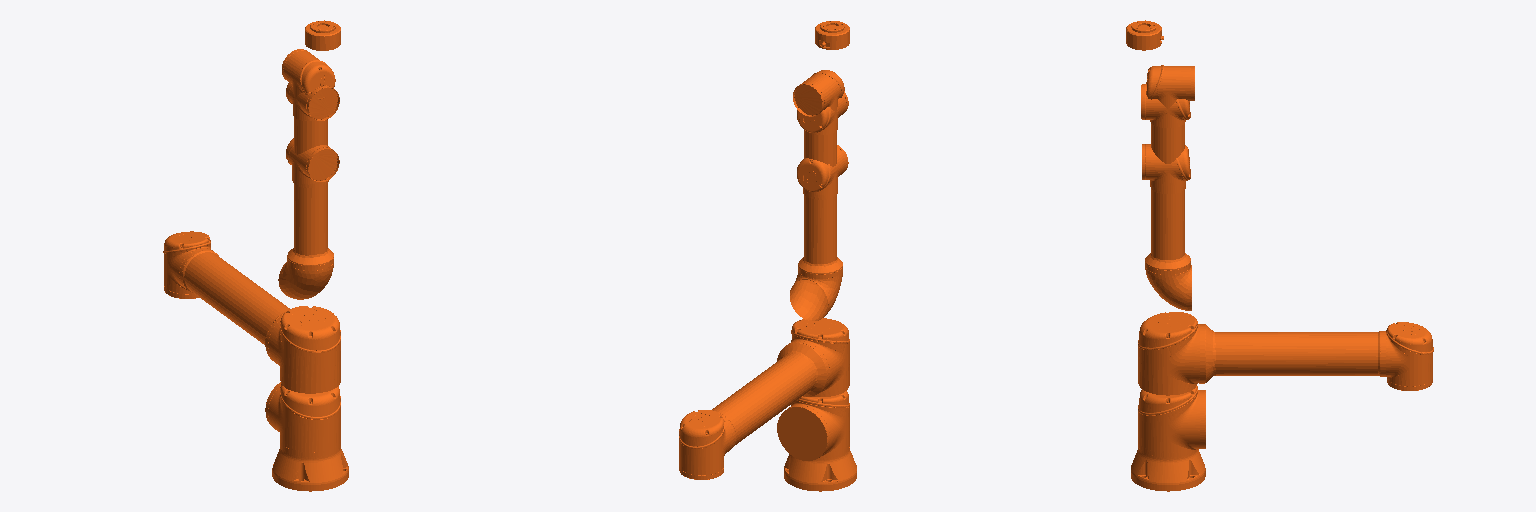
robot.urdf — iiwa7:
<?xml version="1.0" ?>
<!-- =================================================================================== -->
<!-- |    This document was autogenerated by xacro from iiwa7.urdf.xacro               | -->
<!-- |    EDITING THIS FILE BY HAND IS NOT RECOMMENDED                                 | -->
<!-- =================================================================================== -->
<robot name="iiwa7" xmlns:xacro="http://www.ros.org/wiki/xacro">
  <material name="Black">
    <color rgba="0.0 0.0 0.0 1.0"/>
  </material>
  <material name="Blue">
    <color rgba="0.0 0.0 0.8 1.0"/>
  </material>
  <material name="Green">
    <color rgba="0.0 0.8 0.0 1.0"/>
  </material>
  <material name="Grey">
    <color rgba="0.4 0.4 0.4 1.0"/>
  </material>
  <material name="Orange">
    <color rgba="1.0 0.423529411765 0.0392156862745 1.0"/>
  </material>
  <material name="Brown">
    <color rgba="0.870588235294 0.811764705882 0.764705882353 1.0"/>
  </material>
  <material name="Red">
    <color rgba="0.8 0.0 0.0 1.0"/>
  </material>
  <material name="White">
    <color rgba="1.0 1.0 1.0 1.0"/>
  </material>
  <material name="KUKA_orange">
    <color rgba="0.964705882353 0.470588235294 0.156862745098 1.0"/>
  </material>
  <!-- Fix to world just for testing -->
  <link name="world"/>
  <!--iiwa-->
  <!--   <xacro:iiwa7 hardware_interface="$(arg hardware_interface)" robot_name="$(arg robot_name)" parent="world">
    <origin xyz="$(arg origin_xyz)" rpy="$(arg origin_rpy)" />
  </xacro:iiwa7> -->
  <!--joint between {parent} and link_0-->
  <joint name="world_iiwa_joint" type="fixed">
    <origin rpy="0 0 0" xyz="0 0 0"/>
    <parent link="world"/>
    <child link="iiwa_link_0"/>
  </joint>
  <link name="iiwa_link_0">
    <inertial>
      <origin rpy="0 0 0" xyz="-0.1 0 0.07"/>
      <mass value="5"/>
      <inertia ixx="0.05" ixy="0" ixz="0" iyy="0.06" iyz="0" izz="0.03"/>
    </inertial>
    <visual>
      <origin rpy="0 0 0" xyz="0 0 0"/>
      <geometry>
        <mesh filename="package://iiwa_description/meshes/iiwa7/visual/link_0.stl"/>
      </geometry>
      <material name="KUKA_orange"/>
    </visual>
    <collision>
      <origin rpy="0 0 0" xyz="0 0 0"/>
      <geometry>
        <mesh filename="package://iiwa_description/meshes/iiwa7/collision/link_0.stl"/>
      </geometry>
      <material name="KUKA_orange"/>
    </collision>
    <self_collision_checking>
      <origin rpy="0 0 0" xyz="0 0 0"/>
      <geometry>
        <capsule length="0.25" radius="0.15"/>
      </geometry>
    </self_collision_checking>
  </link>
  <!-- joint between link_0 and link_1 -->
  <joint name="iiwa_joint_1" type="revolute">
    <parent link="iiwa_link_0"/>
    <child link="iiwa_link_1"/>
    <origin rpy="0 0 0" xyz="0 0 0.15"/>
    <axis xyz="0 0 1"/>
    <limit effort="300" lower="-2.96705972839" upper="2.96705972839" velocity="10"/>
    <safety_controller k_position="100" k_velocity="2" soft_lower_limit="-2.93215314335" soft_upper_limit="2.93215314335"/>
    <dynamics damping="0.5"/>
  </joint>
  <link name="iiwa_link_1">
    <inertial>
      <origin rpy="0 0 0" xyz="0 -0.03 0.12"/>
      <mass value="3.4525"/>
      <inertia ixx="0.02183" ixy="0" ixz="0" iyy="0.007703" iyz="-0.003887" izz="0.02083"/>
    </inertial>
    <visual>
      <origin rpy="0 0 0" xyz="0 0 0.0075"/>
      <geometry>
        <mesh filename="package://iiwa_description/meshes/iiwa7/visual/link_1.stl"/>
      </geometry>
      <material name="KUKA_orange"/>
    </visual>
    <collision>
      <origin rpy="0 0 0" xyz="0 0 0.0075"/>
      <geometry>
        <mesh filename="package://iiwa_description/meshes/iiwa7/collision/link_1.stl"/>
      </geometry>
      <material name="KUKA_orange"/>
    </collision>
  </link>
  <joint name="iiwa_joint_2" type="revolute">
    <parent link="iiwa_link_1"/>
    <child link="iiwa_link_2"/>
    <origin rpy="1.57079632679   0 3.14159265359" xyz="0 0 0.19"/>
    <axis xyz="0 0 1"/>
    <limit effort="300" lower="-2.09439510239" upper="2.09439510239" velocity="10"/>
    <safety_controller k_position="100" k_velocity="2" soft_lower_limit="-2.05948851735" soft_upper_limit="2.05948851735"/>
    <dynamics damping="0.5"/>
  </joint>
  <link name="iiwa_link_2">
    <inertial>
      <origin rpy="0 0 0" xyz="0.0003 0.059 0.042"/>
      <mass value="3.4821"/>
      <inertia ixx="0.02076" ixy="0" ixz="-0.003626" iyy="0.02179" iyz="0" izz="0.00779"/>
    </inertial>
    <visual>
      <origin rpy="0 0 0" xyz="0 0 0"/>
      <geometry>
        <mesh filename="package://iiwa_description/meshes/iiwa7/visual/link_2.stl"/>
      </geometry>
      <material name="KUKA_orange"/>
    </visual>
    <collision>
      <origin rpy="0 0 0" xyz="0 0 0"/>
      <geometry>
        <mesh filename="package://iiwa_description/meshes/iiwa7/collision/link_2.stl"/>
      </geometry>
      <material name="KUKA_orange"/>
    </collision>
  </link>
  <joint name="iiwa_joint_3" type="revolute">
    <parent link="iiwa_link_2"/>
    <child link="iiwa_link_3"/>
    <origin rpy="1.57079632679 0 3.14159265359" xyz="0 0.21 0"/>
    <axis xyz="0 0 1"/>
    <limit effort="300" lower="-2.96705972839" upper="2.96705972839" velocity="10"/>
    <safety_controller k_position="100" k_velocity="2" soft_lower_limit="-2.93215314335" soft_upper_limit="2.93215314335"/>
    <dynamics damping="0.5"/>
  </joint>
  <link name="iiwa_link_3">
    <inertial>
      <origin rpy="0 0 0" xyz="0 0.03 0.13"/>
      <mass value="4.05623"/>
      <inertia ixx="0.03204" ixy="0" ixz="0" iyy="0.00972" iyz="0.006227" izz="0.03042"/>
    </inertial>
    <visual>
      <origin rpy="0 0 0" xyz="0 0 -0.026"/>
      <geometry>
        <mesh filename="package://iiwa_description/meshes/iiwa7/visual/link_3.stl"/>
      </geometry>
      <material name="KUKA_orange"/>
    </visual>
    <collision>
      <origin rpy="0 0 0" xyz="0 0 -0.026"/>
      <geometry>
        <mesh filename="package://iiwa_description/meshes/iiwa7/collision/link_3.stl"/>
      </geometry>
      <material name="KUKA_orange"/>
    </collision>
  </link>
  <joint name="iiwa_joint_4" type="revolute">
    <parent link="iiwa_link_3"/>
    <child link="iiwa_link_4"/>
    <origin rpy="1.57079632679 0 0" xyz="0 0 0.19"/>
    <axis xyz="0 0 1"/>
    <limit effort="300" lower="-2.09439510239" upper="2.09439510239" velocity="10"/>
    <safety_controller k_position="100" k_velocity="2" soft_lower_limit="-2.05948851735" soft_upper_limit="2.05948851735"/>
    <dynamics damping="0.5"/>
  </joint>
  <link name="iiwa_link_4">
    <inertial>
      <origin rpy="0 0 0" xyz="0 0.067 0.034"/>
      <mass value="3.4822"/>
      <inertia ixx="0.02178" ixy="0" ixz="0" iyy="0.02075" iyz="-0.003625" izz="0.007785"/>
    </inertial>
    <visual>
      <origin rpy="0 0 0" xyz="0 0 0"/>
      <geometry>
        <mesh filename="package://iiwa_description/meshes/iiwa7/visual/link_4.stl"/>
      </geometry>
      <material name="KUKA_orange"/>
    </visual>
    <collision>
      <origin rpy="0 0 0" xyz="0 0 0"/>
      <geometry>
        <mesh filename="package://iiwa_description/meshes/iiwa7/collision/link_4.stl"/>
      </geometry>
      <material name="KUKA_orange"/>
    </collision>
  </link>
  <joint name="iiwa_joint_5" type="revolute">
    <parent link="iiwa_link_4"/>
    <child link="iiwa_link_5"/>
    <origin rpy="-1.57079632679 3.14159265359 0" xyz="0 0.21 0"/>
    <axis xyz="0 0 1"/>
    <limit effort="300" lower="-2.96705972839" upper="2.96705972839" velocity="10"/>
    <safety_controller k_position="100" k_velocity="2" soft_lower_limit="-2.93215314335" soft_upper_limit="2.93215314335"/>
    <dynamics damping="0.5"/>
  </joint>
  <link name="iiwa_link_5">
    <inertial>
      <origin rpy="0 0 0" xyz="0.0001 0.021 0.076"/>
      <mass value="2.1633"/>
      <inertia ixx="0.01287" ixy="0" ixz="0" iyy="0.005708" iyz="-0.003946" izz="0.01112"/>
    </inertial>
    <visual>
      <origin rpy="0 0 0" xyz="0 0 -0.026"/>
      <geometry>
        <mesh filename="package://iiwa_description/meshes/iiwa7/visual/link_5.stl"/>
      </geometry>
      <material name="KUKA_orange"/>
    </visual>
    <collision>
      <origin rpy="0 0 0" xyz="0 0 -0.026"/>
      <geometry>
        <mesh filename="package://iiwa_description/meshes/iiwa7/collision/link_5.stl"/>
      </geometry>
      <material name="KUKA_orange"/>
    </collision>
  </link>
  <joint name="iiwa_joint_6" type="revolute">
    <parent link="iiwa_link_5"/>
    <child link="iiwa_link_6"/>
    <origin rpy="1.57079632679 0 0" xyz="0 0.06070 0.19"/>
    <axis xyz="0 0 1"/>
    <limit effort="300" lower="-2.09439510239" upper="2.09439510239" velocity="10"/>
    <safety_controller k_position="100" k_velocity="2" soft_lower_limit="-2.05948851735" soft_upper_limit="2.05948851735"/>
    <dynamics damping="0.5"/>
  </joint>
  <link name="iiwa_link_6">
    <inertial>
      <origin rpy="0 0 0" xyz="0 0.0006 0.0004"/>
      <mass value="2.3466"/>
      <inertia ixx="0.006509" ixy="0" ixz="0" iyy="0.006259" iyz="0.00031891" izz="0.004527"/>
    </inertial>
    <visual>
      <origin rpy="0 0 0" xyz="0 0 0"/>
      <geometry>
        <mesh filename="package://iiwa_description/meshes/iiwa7/visual/link_6.stl"/>
      </geometry>
      <material name="KUKA_orange"/>
    </visual>
    <collision>
      <origin rpy="0 0 0" xyz="0 0 0"/>
      <geometry>
        <mesh filename="package://iiwa_description/meshes/iiwa7/collision/link_6.stl"/>
      </geometry>
      <material name="KUKA_orange"/>
    </collision>
  </link>
  <joint name="iiwa_joint_7" type="revolute">
    <parent link="iiwa_link_6"/>
    <child link="iiwa_link_7"/>
    <origin rpy="-1.57079632679 3.14159265359 0" xyz="0 0.081 0.06070"/>
    <axis xyz="0 0 1"/>
    <limit effort="300" lower="-3.05432619099" upper="3.05432619099" velocity="10"/>
    <safety_controller k_position="100" k_velocity="2" soft_lower_limit="-3.01941960595" soft_upper_limit="3.01941960595"/>
    <dynamics damping="0.5"/>
  </joint>
  <link name="iiwa_link_7">
    <inertial>
      <origin rpy="0 0 0" xyz="0 0 0.02"/>
      <mass value="3.129"/>
      <inertia ixx="0.01464" ixy="0.0005912" ixz="0" iyy="0.01465" iyz="0" izz="0.002872"/>
    </inertial>
    <visual>
      <origin rpy="0 0 0" xyz="0 0 -0.0005"/>
      <geometry>
        <mesh filename="package://iiwa_description/meshes/iiwa7/visual/link_7.stl"/>
      </geometry>
      <!-- <material name="Grey"/> -->
      <material name="KUKA_orange"/>
    </visual>
    <collision>
      <origin rpy="0 0 0" xyz="0 0 -0.0005"/>
      <geometry>
        <mesh filename="package://iiwa_description/meshes/iiwa7/collision/link_7.stl"/>
      </geometry>
      <!-- <material name="Grey"/> -->
      <material name="KUKA_orange"/>
    </collision>
  </link>
  <joint name="iiwa_joint_ee" type="fixed">
    <parent link="iiwa_link_7"/>
    <child link="iiwa_link_ee"/>
    <origin rpy="0 0 0" xyz="0 0 0.045"/>
  </joint>
  <link name="iiwa_link_ee">
    </link>
  <!-- Load Gazebo lib and set the robot namespace -->
  <gazebo>
    <plugin filename="libgazebo_ros_control.so" name="gazebo_ros_control">
      <robotNamespace>/iiwa</robotNamespace>
    </plugin>
  </gazebo>
  <!-- Link0 -->
  <gazebo reference="iiwa_link_0">
    <material>Gazebo/Grey</material>
    <mu1>0.2</mu1>
    <mu2>0.2</mu2>
  </gazebo>
  <!-- Link1 -->
  <gazebo reference="iiwa_link_1">
    <material>Gazebo/Orange</material>
    <mu1>0.2</mu1>
    <mu2>0.2</mu2>
  </gazebo>
  <!-- Link2 -->
  <gazebo reference="iiwa_link_2">
    <material>Gazebo/Orange</material>
    <mu1>0.2</mu1>
    <mu2>0.2</mu2>
  </gazebo>
  <!-- Link3 -->
  <gazebo reference="iiwa_link_3">
    <material>Gazebo/Orange</material>
    <mu1>0.2</mu1>
    <mu2>0.2</mu2>
  </gazebo>
  <!-- Link4 -->
  <gazebo reference="iiwa_link_4">
    <material>Gazebo/Orange</material>
    <mu1>0.2</mu1>
    <mu2>0.2</mu2>
  </gazebo>
  <!-- Link5 -->
  <gazebo reference="iiwa_link_5">
    <material>Gazebo/Orange</material>
    <mu1>0.2</mu1>
    <mu2>0.2</mu2>
  </gazebo>
  <!-- Link6 -->
  <gazebo reference="iiwa_link_6">
    <material>Gazebo/Orange</material>
    <mu1>0.2</mu1>
    <mu2>0.2</mu2>
  </gazebo>
  <!-- Link7 -->
  <gazebo reference="iiwa_link_7">
    <material>Gazebo/Grey</material>
    <mu1>0.2</mu1>
    <mu2>0.2</mu2>
  </gazebo>
  <transmission name="iiwa_tran_1">
    <robotNamespace>/iiwa</robotNamespace>
    <type>transmission_interface/SimpleTransmission</type>
    <joint name="iiwa_joint_1">
      <hardwareInterface>PositionJointInterface</hardwareInterface>
    </joint>
    <actuator name="iiwa_motor_1">
      <hardwareInterface>PositionJointInterface</hardwareInterface>
      <mechanicalReduction>1</mechanicalReduction>
    </actuator>
  </transmission>
  <transmission name="iiwa_tran_2">
    <robotNamespace>/iiwa</robotNamespace>
    <type>transmission_interface/SimpleTransmission</type>
    <joint name="iiwa_joint_2">
      <hardwareInterface>PositionJointInterface</hardwareInterface>
    </joint>
    <actuator name="iiwa_motor_2">
      <hardwareInterface>PositionJointInterface</hardwareInterface>
      <mechanicalReduction>1</mechanicalReduction>
    </actuator>
  </transmission>
  <transmission name="iiwa_tran_3">
    <robotNamespace>/iiwa</robotNamespace>
    <type>transmission_interface/SimpleTransmission</type>
    <joint name="iiwa_joint_3">
      <hardwareInterface>PositionJointInterface</hardwareInterface>
    </joint>
    <actuator name="iiwa_motor_3">
      <hardwareInterface>PositionJointInterface</hardwareInterface>
      <mechanicalReduction>1</mechanicalReduction>
    </actuator>
  </transmission>
  <transmission name="iiwa_tran_4">
    <robotNamespace>/iiwa</robotNamespace>
    <type>transmission_interface/SimpleTransmission</type>
    <joint name="iiwa_joint_4">
      <hardwareInterface>PositionJointInterface</hardwareInterface>
    </joint>
    <actuator name="iiwa_motor_4">
      <hardwareInterface>PositionJointInterface</hardwareInterface>
      <mechanicalReduction>1</mechanicalReduction>
    </actuator>
  </transmission>
  <transmission name="iiwa_tran_5">
    <robotNamespace>/iiwa</robotNamespace>
    <type>transmission_interface/SimpleTransmission</type>
    <joint name="iiwa_joint_5">
      <hardwareInterface>PositionJointInterface</hardwareInterface>
    </joint>
    <actuator name="iiwa_motor_5">
      <hardwareInterface>PositionJointInterface</hardwareInterface>
      <mechanicalReduction>1</mechanicalReduction>
    </actuator>
  </transmission>
  <transmission name="iiwa_tran_6">
    <robotNamespace>/iiwa</robotNamespace>
    <type>transmission_interface/SimpleTransmission</type>
    <joint name="iiwa_joint_6">
      <hardwareInterface>PositionJointInterface</hardwareInterface>
    </joint>
    <actuator name="iiwa_motor_6">
      <hardwareInterface>PositionJointInterface</hardwareInterface>
      <mechanicalReduction>1</mechanicalReduction>
    </actuator>
  </transmission>
  <transmission name="iiwa_tran_7">
    <robotNamespace>/iiwa</robotNamespace>
    <type>transmission_interface/SimpleTransmission</type>
    <joint name="iiwa_joint_7">
      <hardwareInterface>PositionJointInterface</hardwareInterface>
    </joint>
    <actuator name="iiwa_motor_7">
      <hardwareInterface>PositionJointInterface</hardwareInterface>
      <mechanicalReduction>1</mechanicalReduction>
    </actuator>
  </transmission>
</robot>

--- What the picture shows (computed from the rendered views, not written in the file) ---
The picture shows the robot from 3 angles, left to right: view 1: azimuth 30°, elevation 25°; view 2: azimuth 150°, elevation 25°; view 3: azimuth 270°, elevation 25°; orthographic projection.
Model iiwa7 with 10 links and 9 joints (7 revolute, 2 fixed), rooted at world, posed all joints at 0.
Links seen in each view (by area): view 1: iiwa_link_2, iiwa_link_3, iiwa_link_1, iiwa_link_0, iiwa_link_4, iiwa_link_5, iiwa_link_6; view 2: iiwa_link_2, iiwa_link_3, iiwa_link_1, iiwa_link_0, iiwa_link_4, iiwa_link_5, iiwa_link_6; view 3: iiwa_link_2, iiwa_link_3, iiwa_link_1, iiwa_link_0, iiwa_link_4, iiwa_link_5, iiwa_link_6.
Link boxes in pixels (<box>): iiwa_link_2: <box>163,231,340,393</box>; iiwa_link_3: <box>278,49,335,299</box>; iiwa_link_1: <box>265,382,340,458</box>; iiwa_link_0: <box>272,442,348,491</box>; iiwa_link_4: <box>286,138,339,187</box>; iiwa_link_5: <box>286,82,339,120</box>; iiwa_link_6: <box>305,20,340,50</box>; iiwa_link_2: <box>679,318,849,479</box>; iiwa_link_3: <box>790,70,844,320</box>; iiwa_link_1: <box>777,391,849,460</box>; iiwa_link_0: <box>784,442,856,491</box>; iiwa_link_4: <box>797,145,848,199</box>; iiwa_link_5: <box>797,91,848,134</box>; iiwa_link_6: <box>815,21,849,49</box>; iiwa_link_2: <box>1138,312,1433,395</box>; iiwa_link_3: <box>1145,65,1194,310</box>; iiwa_link_1: <box>1138,386,1205,458</box>; iiwa_link_0: <box>1131,444,1205,491</box>; iiwa_link_4: <box>1142,144,1190,193</box>; iiwa_link_5: <box>1141,84,1190,127</box>; iiwa_link_6: <box>1126,20,1163,50</box>.
Bounding box of the posed robot: 0.19 × 0.7786 × 1.26 m (x, y, z).
Meshes: 8 distinct files referenced, 7 mesh visuals loaded (7 binary STL); not drawn: 1 (reference not matched to a file when rendering).
